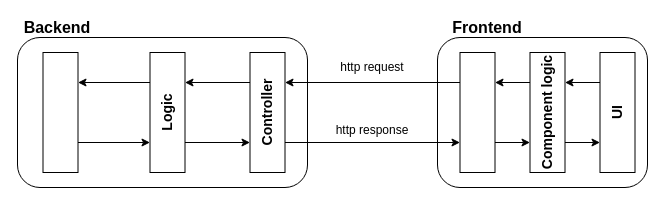
This 665x205 diagram has some shape labels left out. Here are the shapes that lost their labels. From the top down, the box of each, then its label:
(42, 52, 78, 172): Classifier
(459, 52, 495, 172): Service
